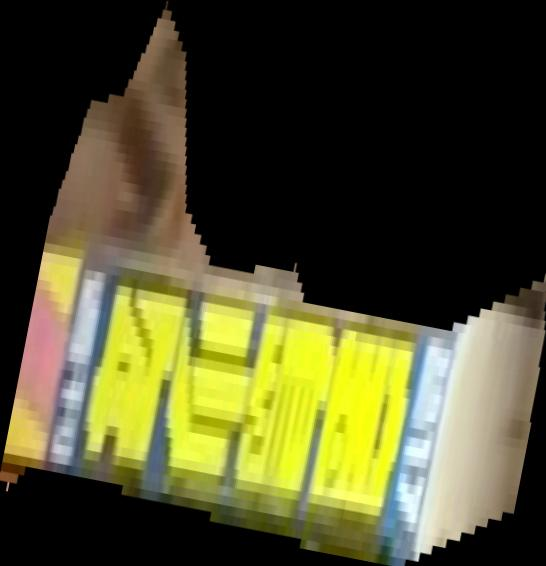flat: (1, 1, 546, 566)
